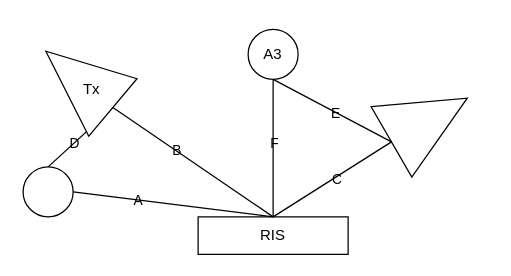
The diagram is 511 pixels wide and 276 high, and some of its shapes have lost their labels. Here are the shapes that lost their labels. From the top down, the centre of each, then its label:
point (429, 119): Rx
point (47, 191): A1
